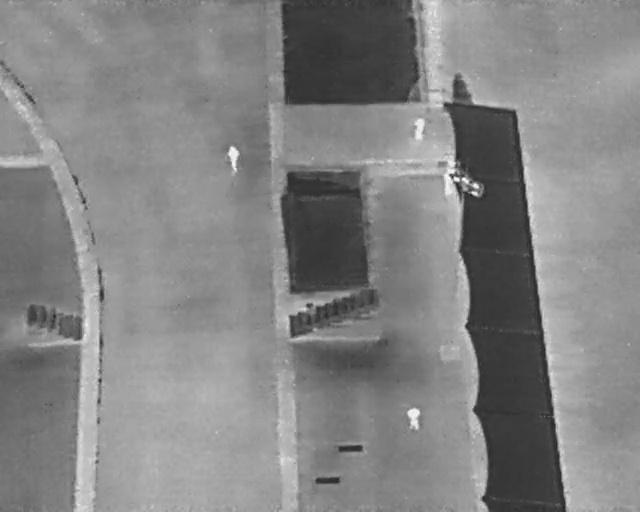Person: (225, 143, 243, 176), (406, 406, 421, 432), (413, 117, 425, 140)
